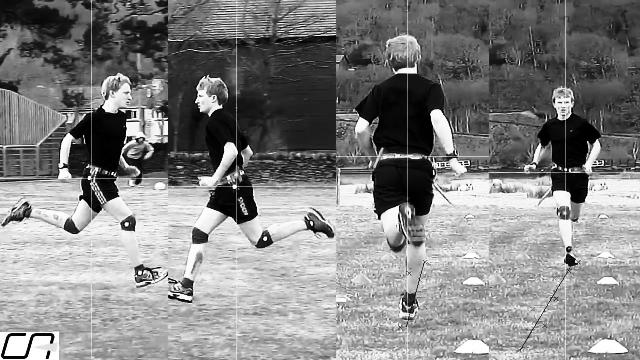berlari: (166, 72, 338, 310), (346, 30, 474, 324), (3, 68, 166, 294), (524, 72, 604, 272)
